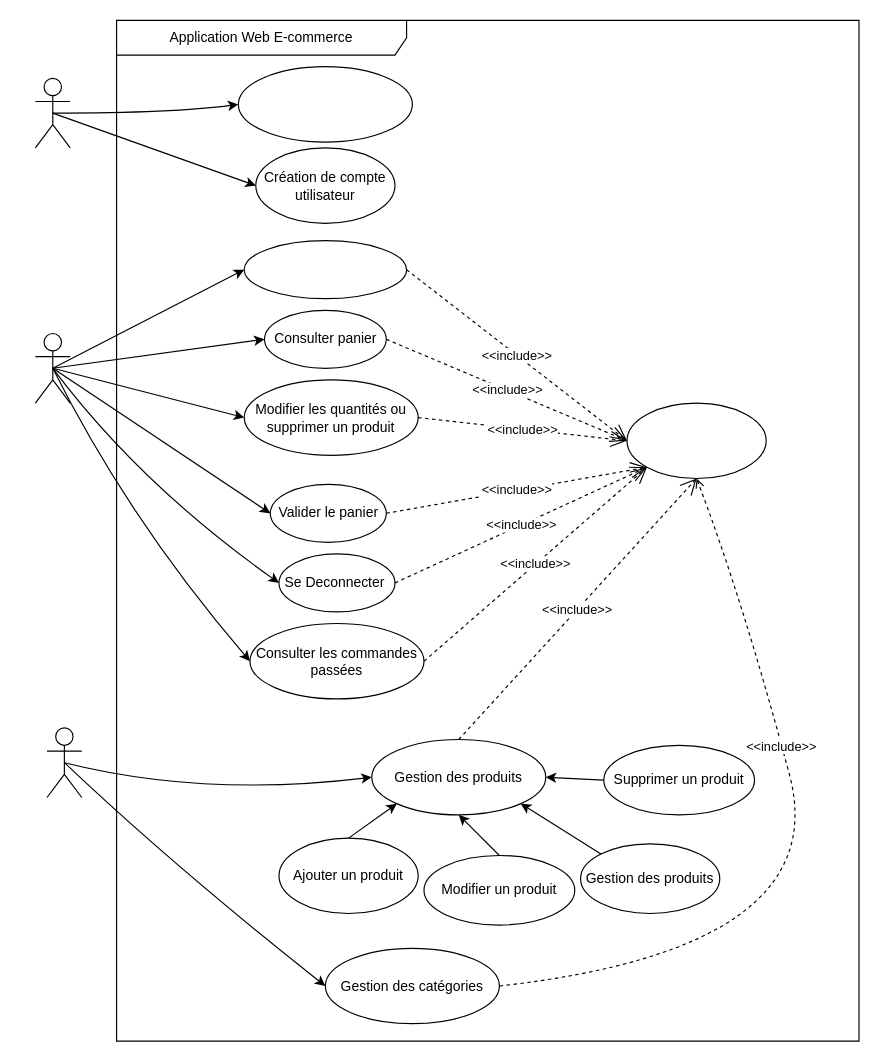
Image size: 879x1061. Some labels were removed from this diagram. Here are the shapes that lost their labels. From the top down, the centre of each, then its label:
point 52,112: Visiteur
point 324,104: Navigation et consultation la liste des produits
point 325,269: Ajouter un produit au panier
point 52,367: Client
point 696,440: Authentification
point 64,762: Administrateur
